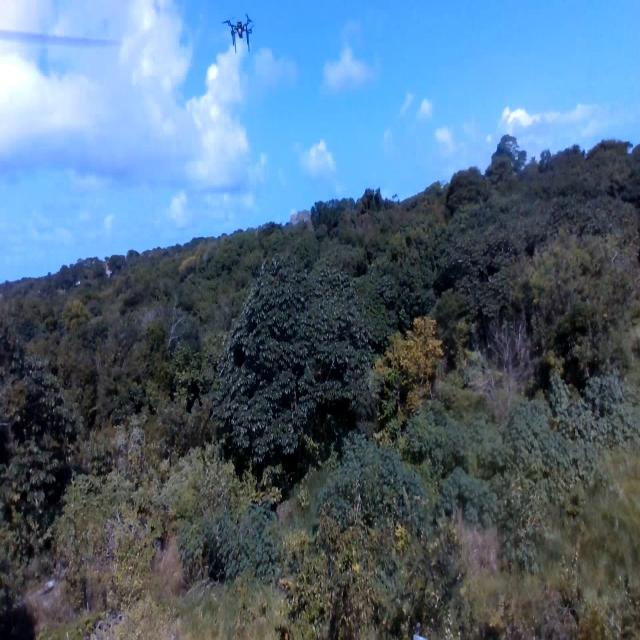-uav-: (217, 6, 260, 59)
